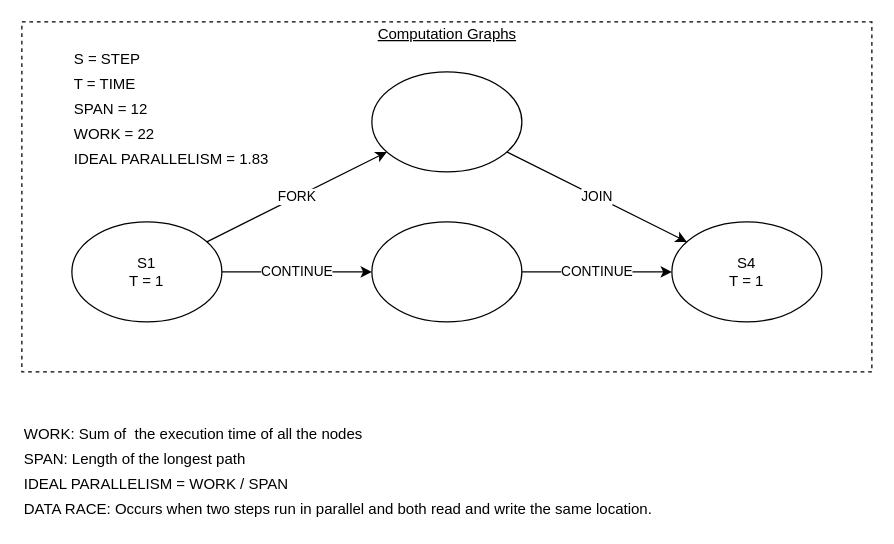
The diagram is 894 pixels wide and 544 high, and some of its shapes have lost their labels. Here are the shapes that lost their labels. From the top down, the centre of each, then its label:
the point at 446,121: S2 T = 10
the point at 446,271: S3 T = 10
